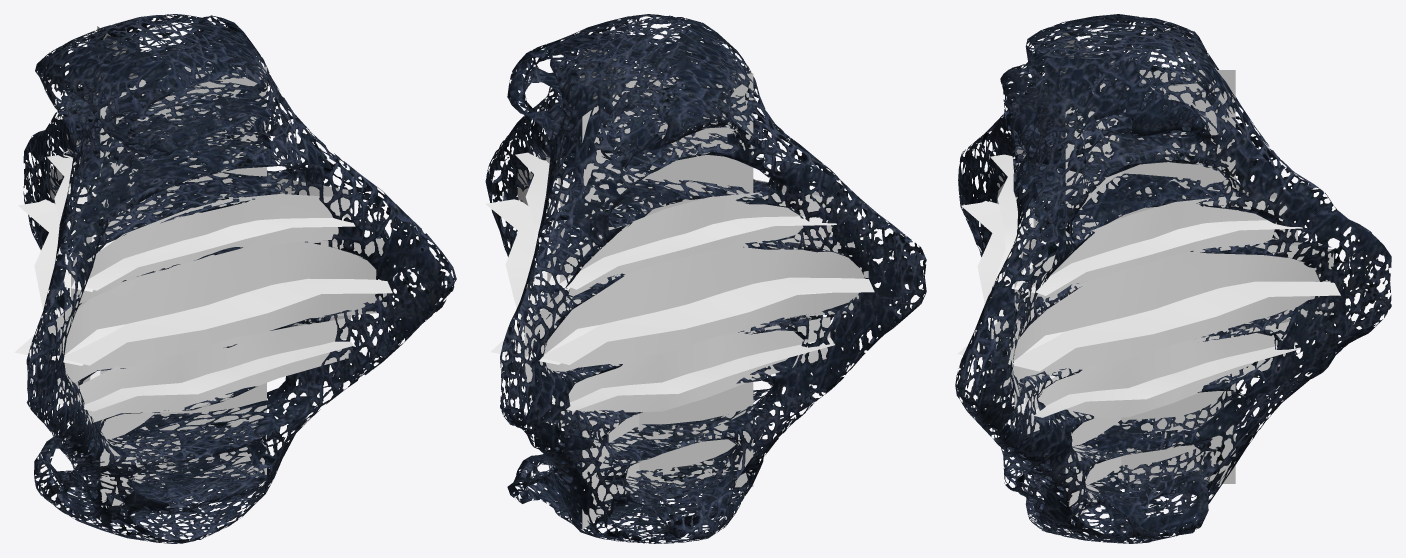
Rendered from battery.glb.
3 views of the same model, side by side, from view 1: azimuth 30°, elevation 25°; view 2: azimuth 150°, elevation 25°; view 3: azimuth 270°, elevation 25° (orthographic).
Parts seen in each view (by area): view 1: body, lightning; view 2: body, lightning; view 3: body, lightning.
Part boxes in pixels (left/top/right/bottom): body: left=23, top=14, right=456, bottom=543; lightning: left=14, top=26, right=392, bottom=519; body: left=485, top=14, right=926, bottom=543; lightning: left=486, top=44, right=874, bottom=529; body: left=955, top=14, right=1391, bottom=543; lightning: left=958, top=32, right=1340, bottom=521.
Bounding box in the file's own units: 0.2647 × 0.2843 × 0.2303.
Materials: 2 (1 with a texture image).
